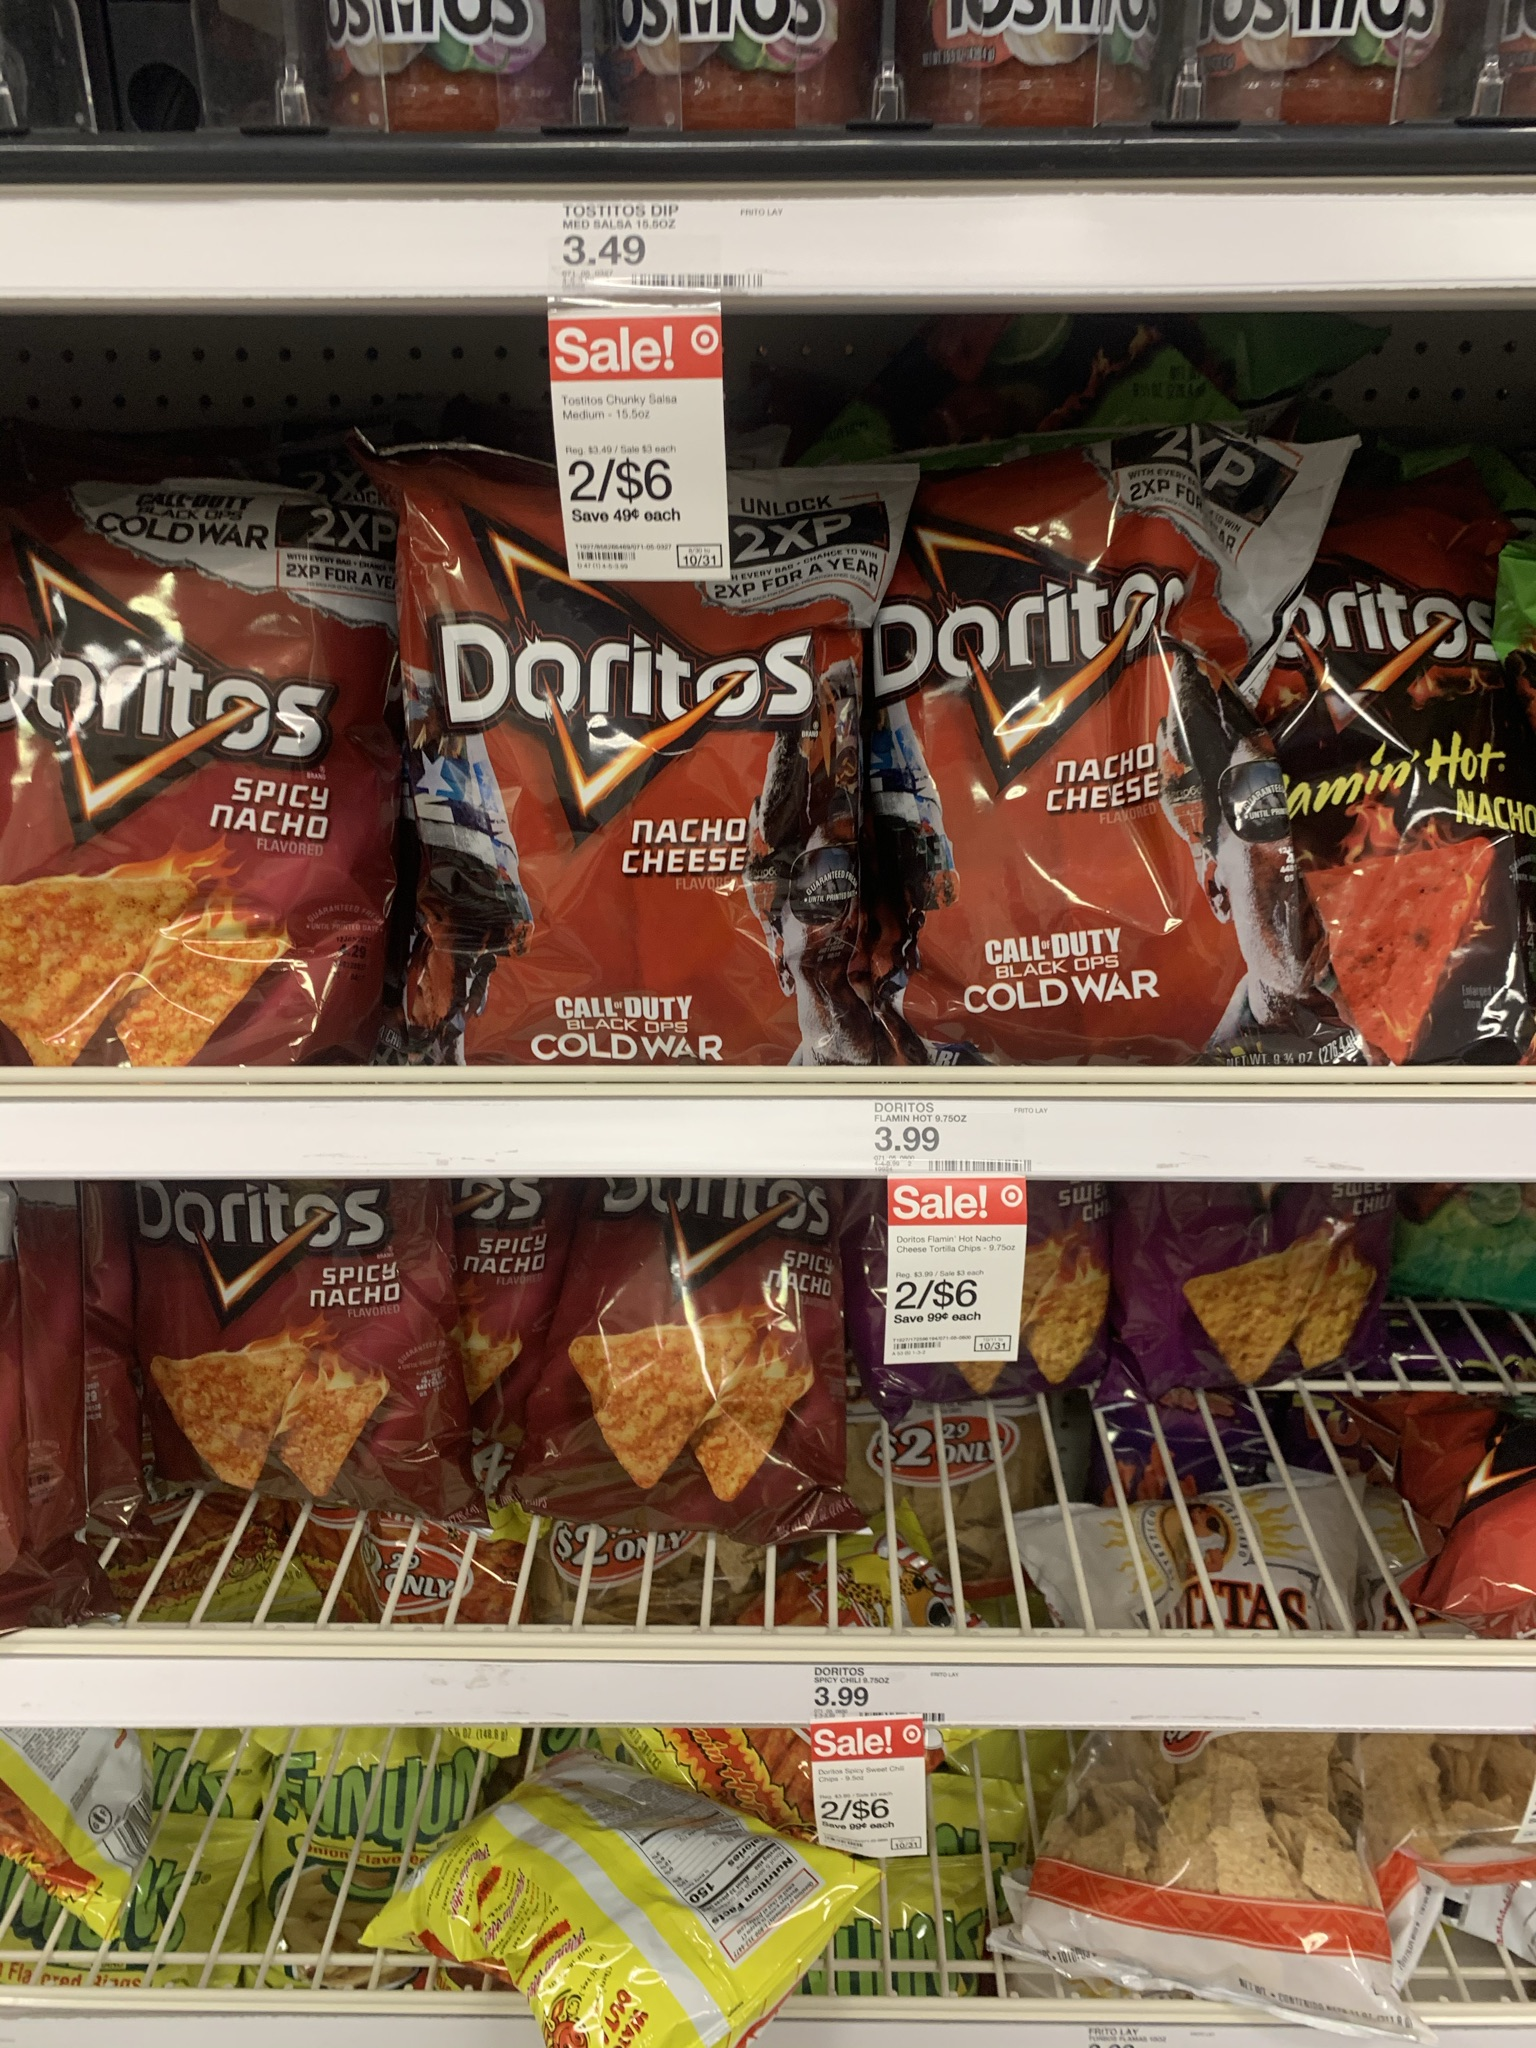Chips: (373, 450, 863, 1055), (863, 442, 1284, 1055), (3, 481, 390, 1063), (124, 1179, 444, 1529)
